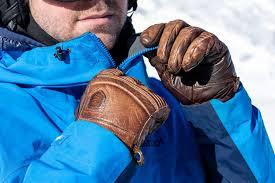gloves: (75, 68, 171, 164), (140, 19, 240, 106)
